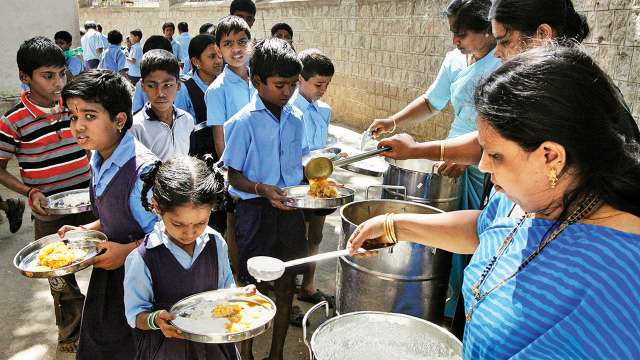student: (145, 156, 235, 249), (58, 72, 138, 153), (248, 36, 303, 112), (12, 32, 75, 97), (133, 47, 192, 111), (210, 15, 262, 72), (185, 32, 229, 82), (296, 43, 332, 100), (268, 20, 297, 52), (105, 25, 127, 50), (159, 19, 181, 40), (127, 22, 144, 46)
